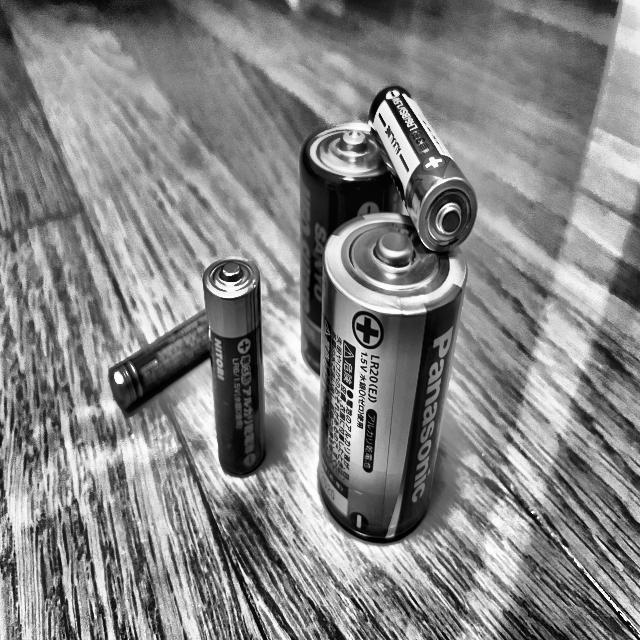drycell: (313, 209, 466, 549), (295, 115, 416, 388), (368, 81, 482, 257), (195, 253, 273, 480), (106, 308, 233, 418)
